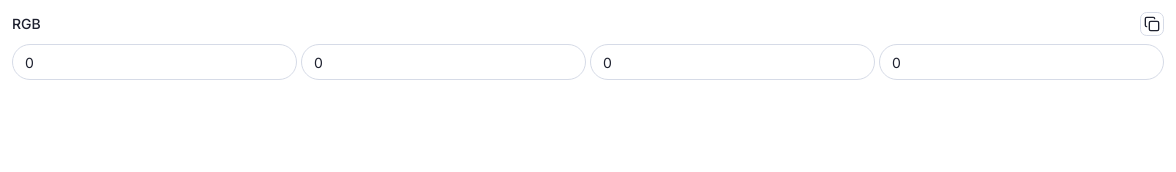
Scenario: <RGBInput /> › shows an error for values outside the supported range
Replace the text in the number field with test id "rgb-input-r" with "-1" at coordinates (154, 62), box x1=12 y1=44 x2=297 y2=80
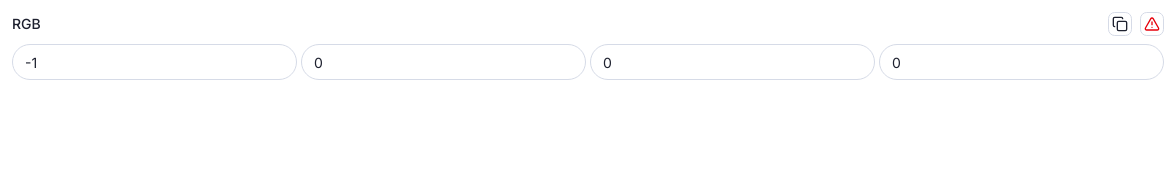
Expected: the button with test id "hex-error-btn" is shown, x1=1140 y1=12 x2=1164 y2=36
